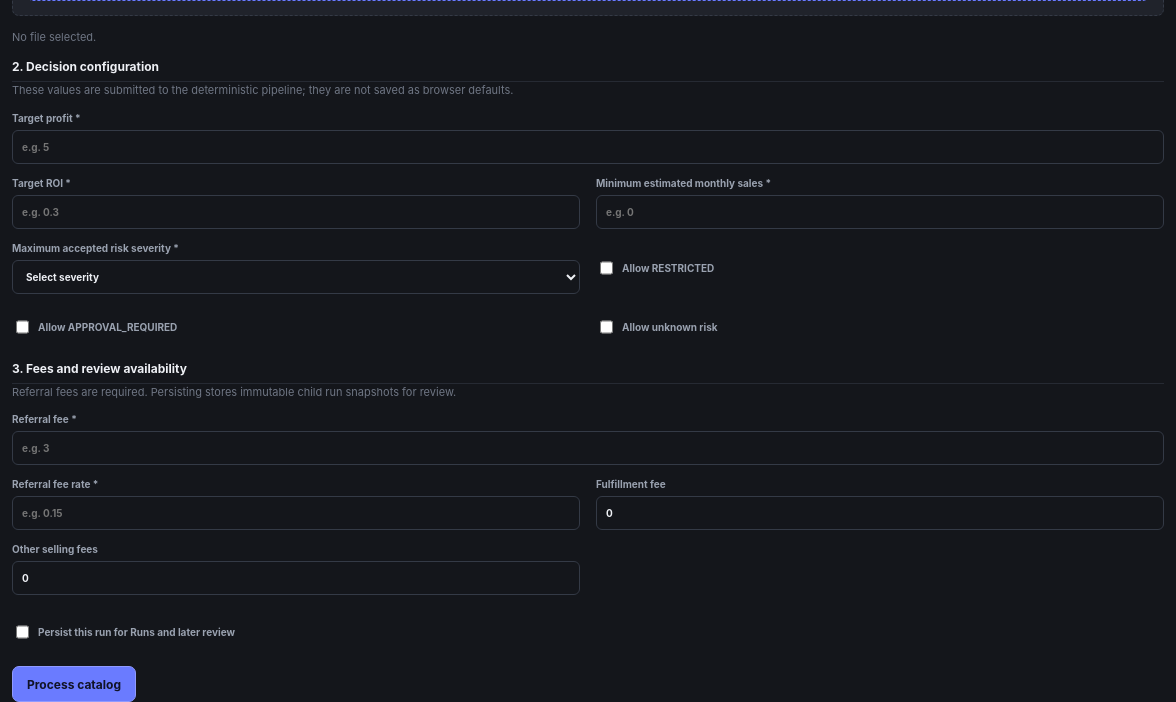
Test case: RunForm › blocks submit when no file is selected
(page scrolled)
What coordinates should you click on to do the following:
click the button "Process catalog"
I would click on:
 (74, 684)
Its box is [12,666,136,701].
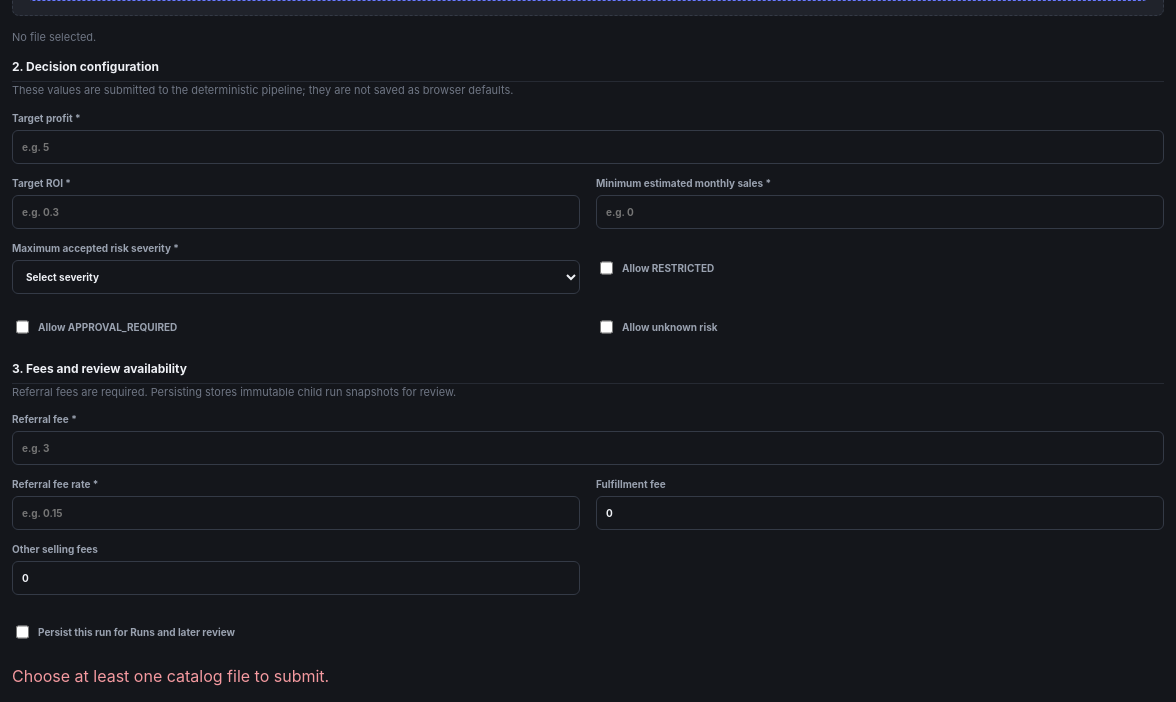
Check: the message shows "Choose at least one catalog file", box [12,666,329,686]
